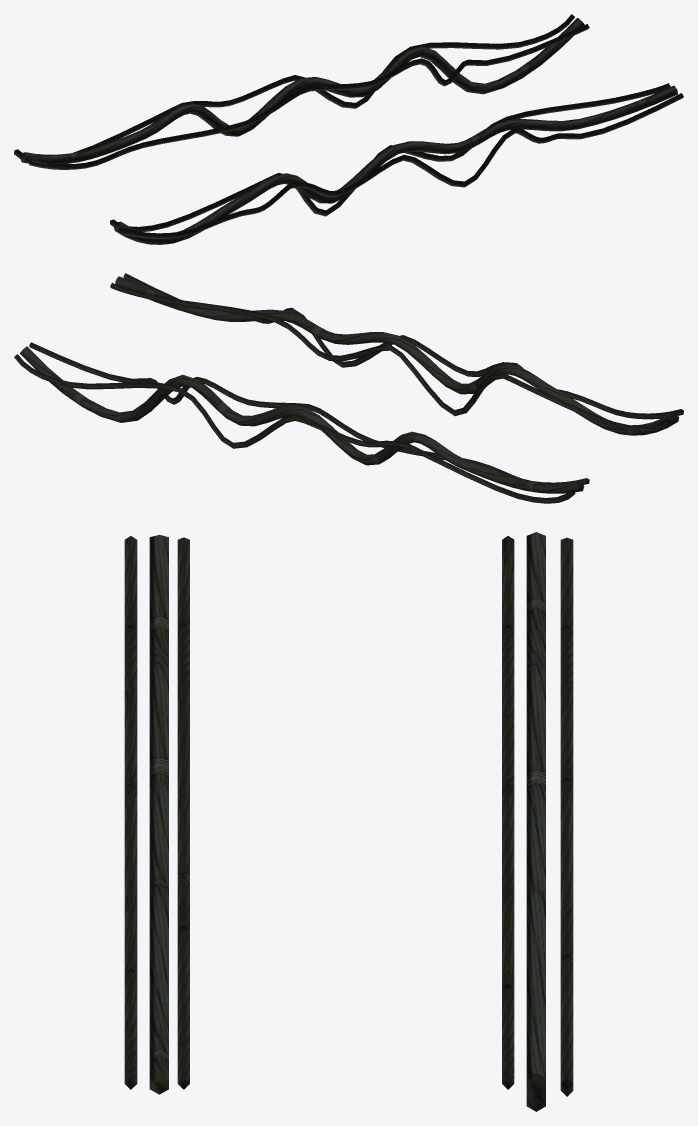
The model's file is tesla_dressing_wires_01.dae.
3 views of the same model, one above another, from view 1: azimuth 30°, elevation 25°; view 2: azimuth 150°, elevation 25°; view 3: azimuth 270°, elevation 25° (orthographic). The views are drawn at different scales.
Visible parts, largest first — view 1: polySurface1; view 2: polySurface1; view 3: polySurface1.
Part boxes in pixels (left/top/right/bottom): polySurface1: left=14, top=14, right=683, bottom=244; polySurface1: left=14, top=273, right=683, bottom=503; polySurface1: left=124, top=532, right=573, bottom=1111.
Size of the model in its own units: 808 by 86.92 by 279.
